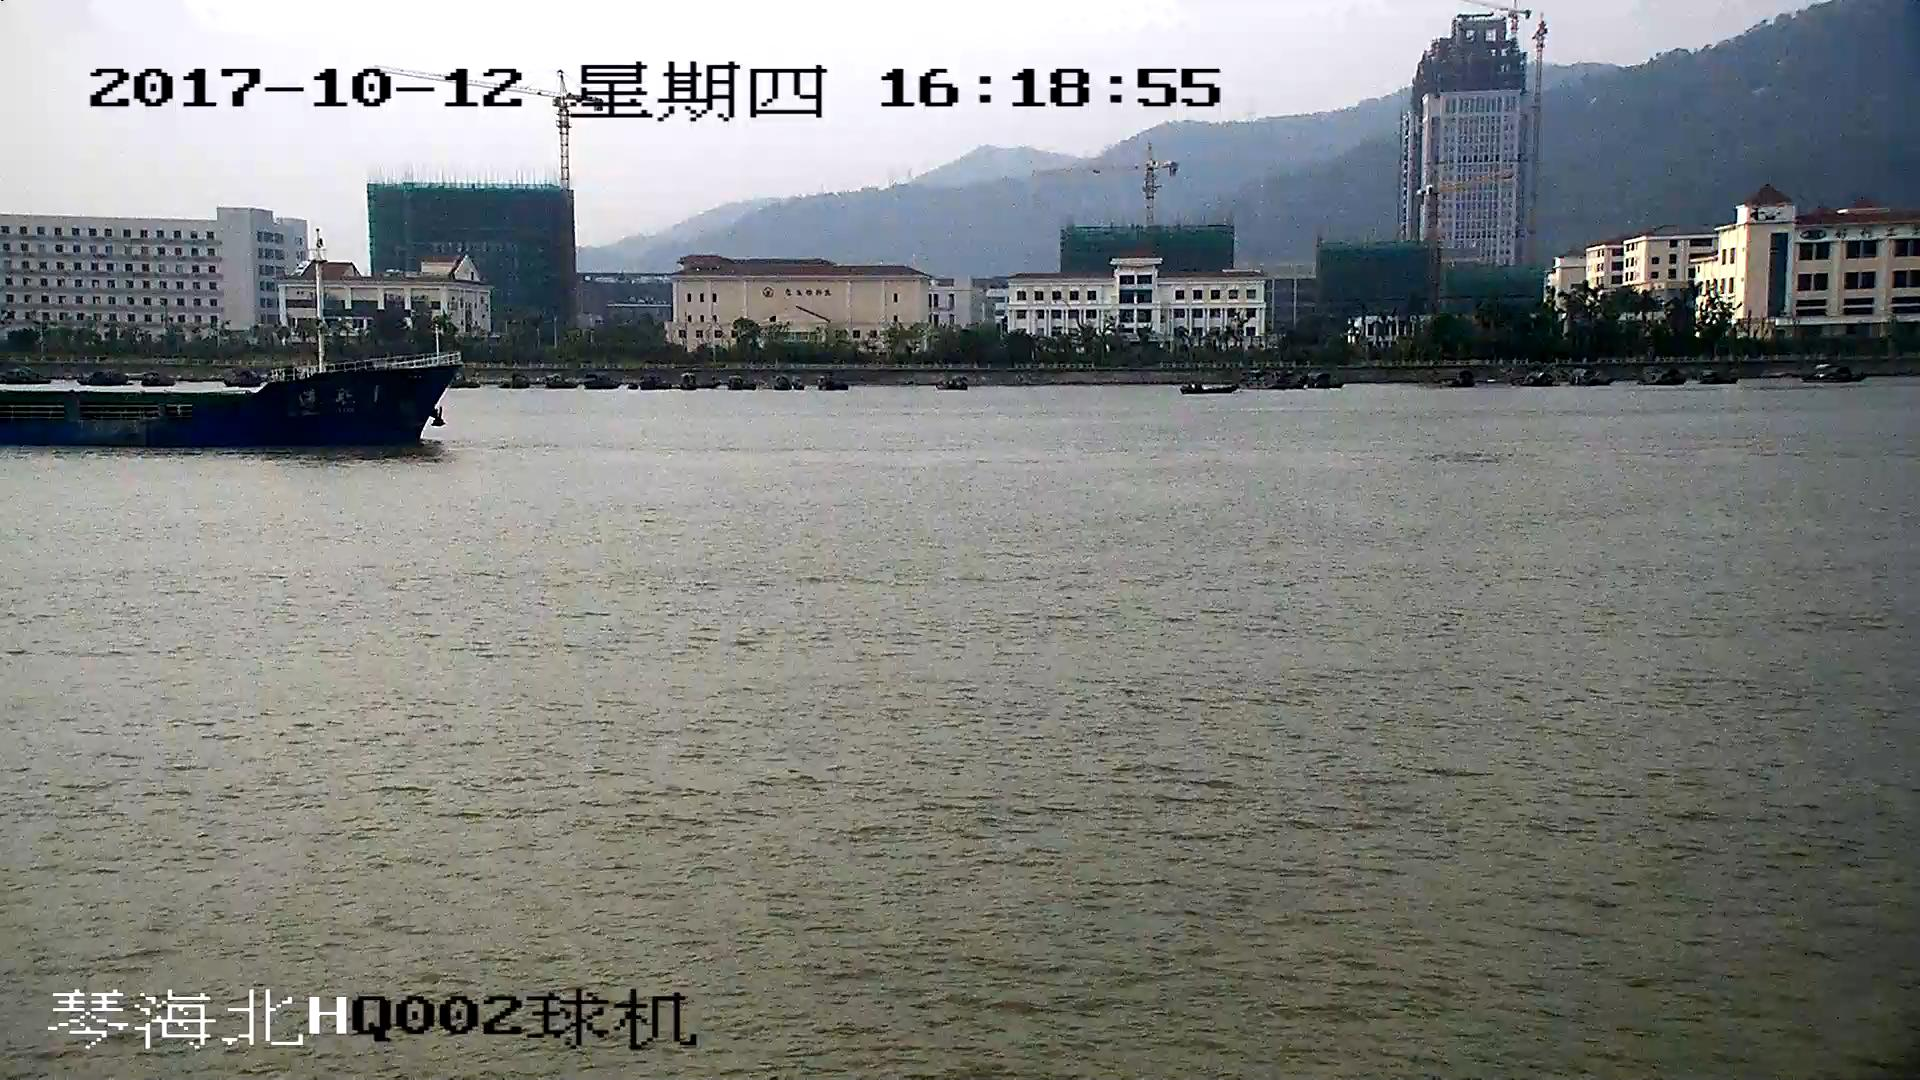general cargo ship: (1, 351, 456, 450)
